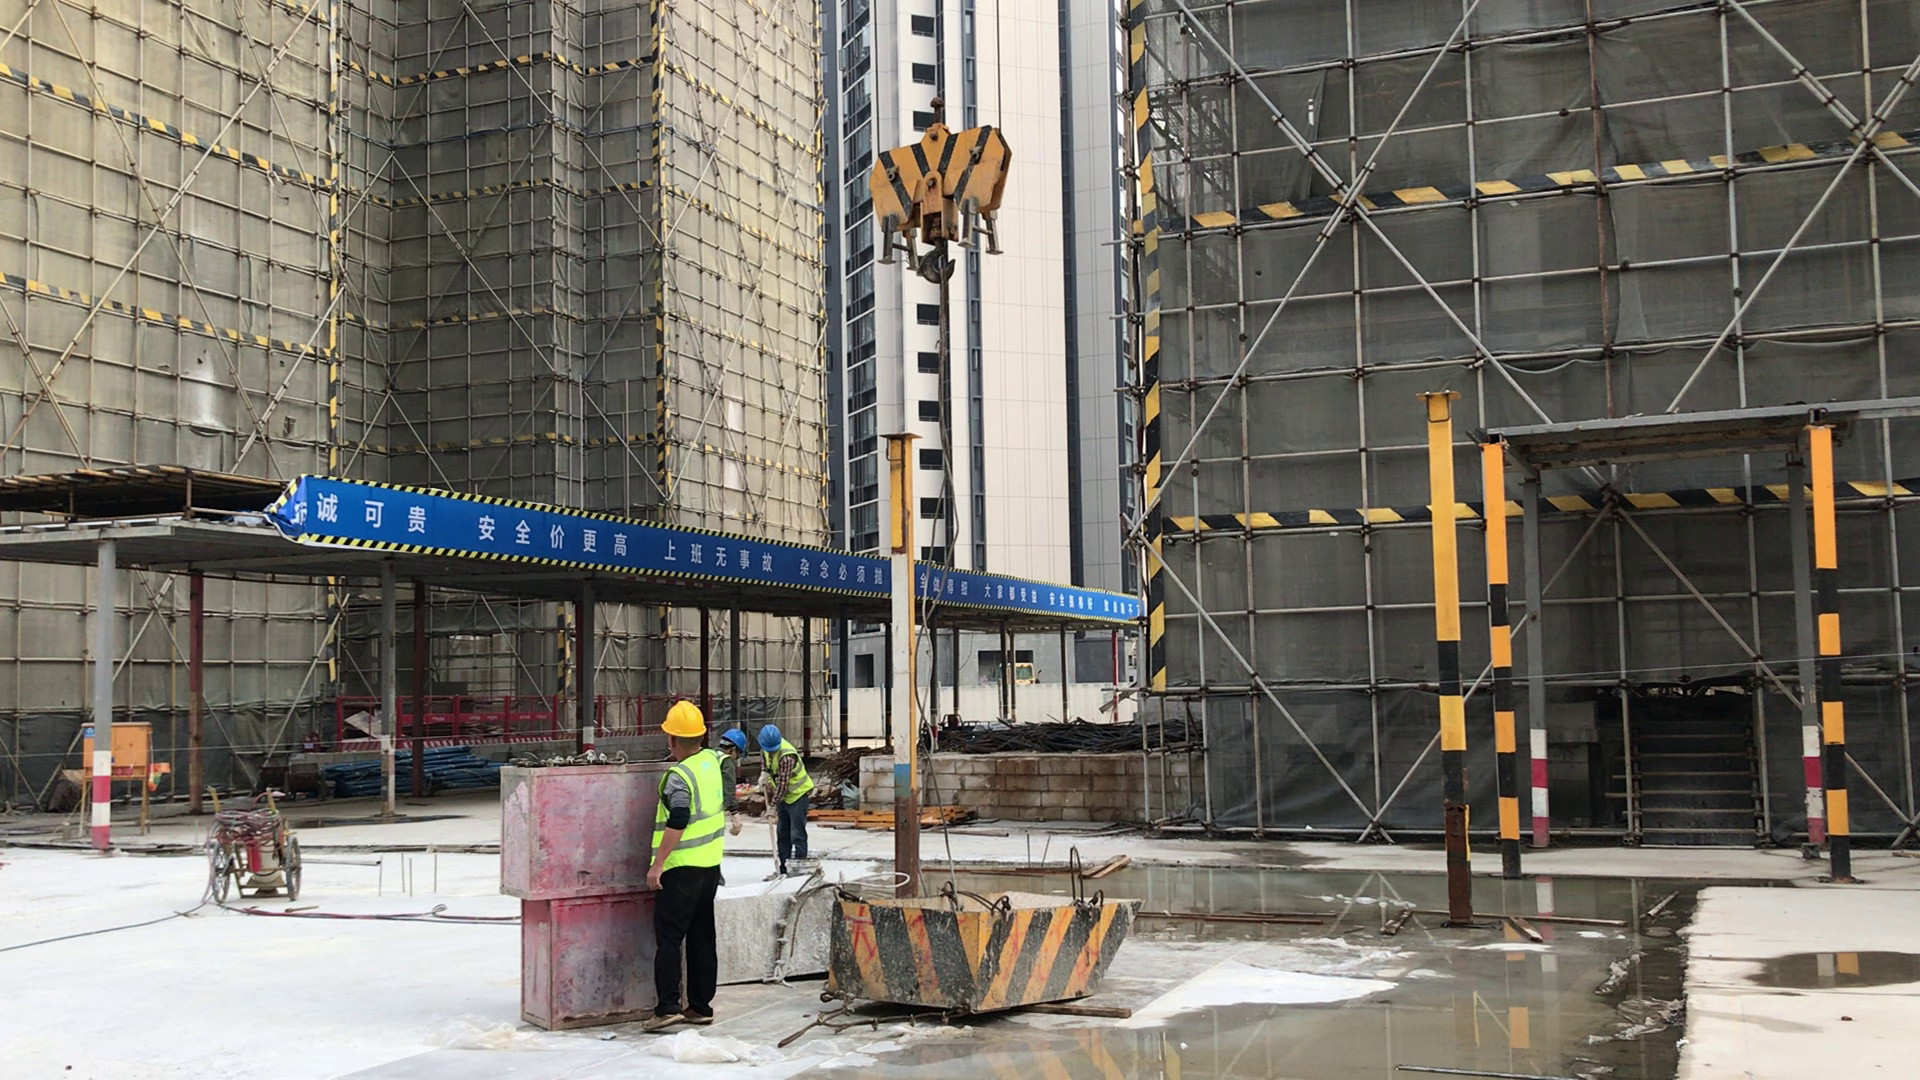ebox: (69, 719, 169, 797)
fence: (330, 672, 670, 758)
handcart: (197, 802, 298, 907)
helmet: (718, 713, 792, 746), (658, 693, 706, 741)
hook: (856, 95, 1012, 285)
hopper: (814, 869, 1144, 1019)
person: (654, 700, 733, 1039), (747, 709, 819, 885)
slogan: (263, 445, 1170, 639)
vest: (640, 748, 736, 875), (758, 750, 814, 812)
